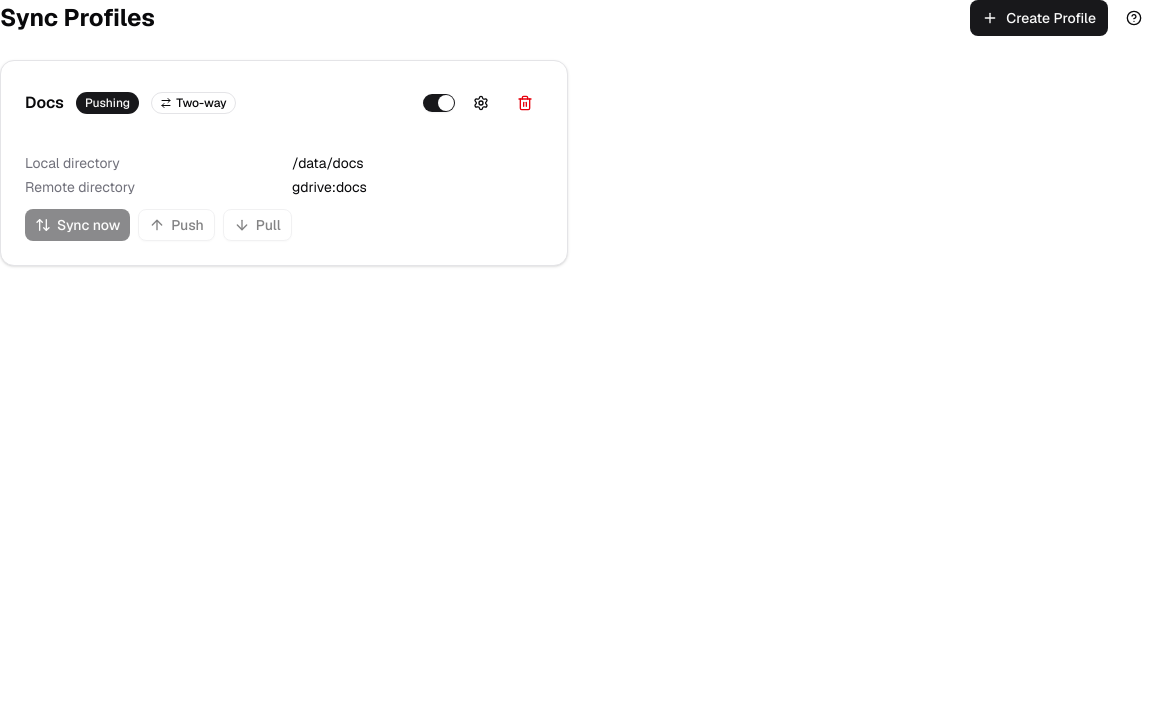
it: ProfilesPage › enable/disable confirmation › warns that disabling stops the running sync
This screenshot has width=1152, height=720.
Click the switch named "Enable or disable profile Docs": (439, 103) [423, 94, 455, 112]
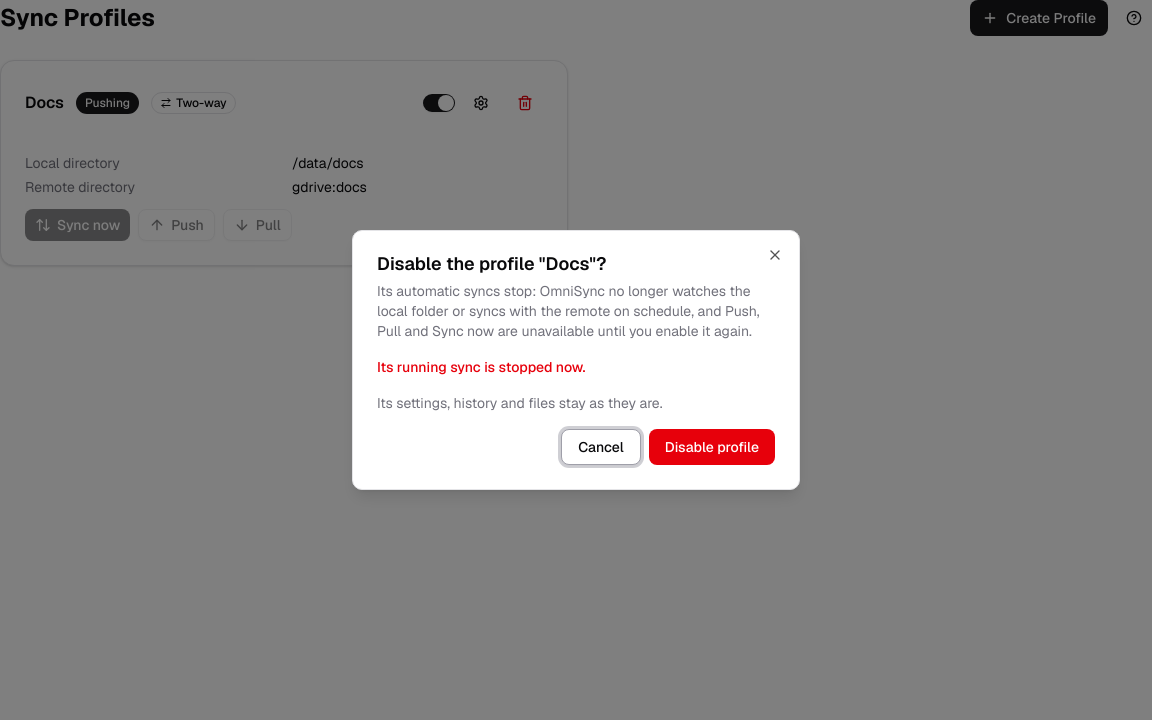
Now the text "Its running sync is stopped now." is shown, box [377, 358, 586, 376]
